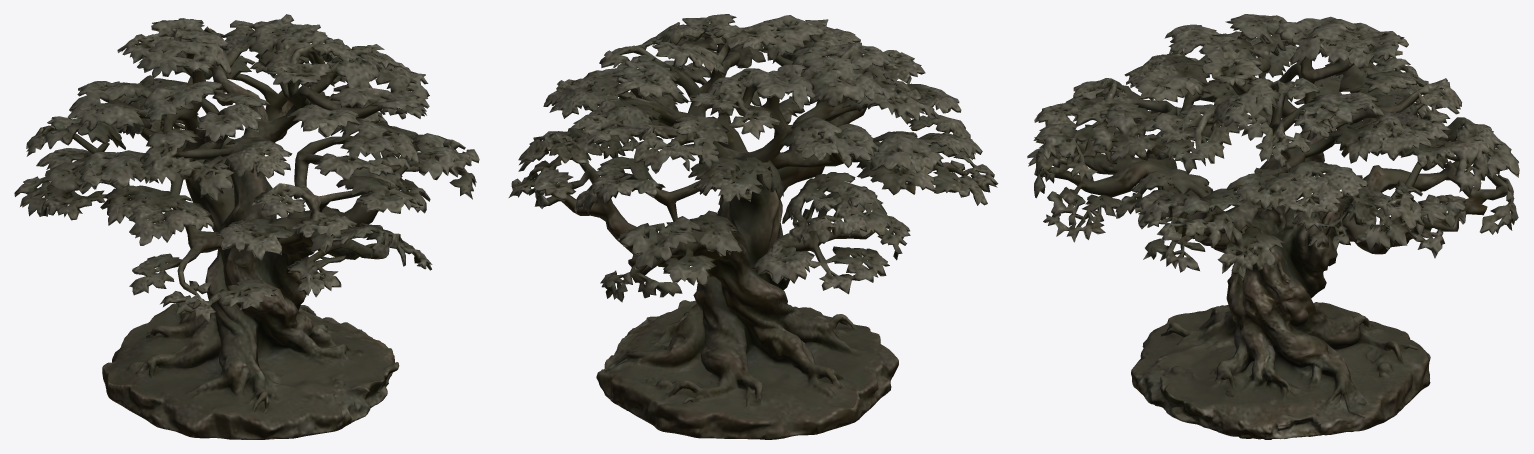
File: bonsaiV02.glb
3 renders of one model, left to right at view 1: azimuth 30°, elevation 25°; view 2: azimuth 150°, elevation 25°; view 3: azimuth 270°, elevation 25°, orthographic.
Parts seen in each view (by area): view 1: tripo_node_99b68e3d-856b-42b8-8802-d043595f0f00; view 2: tripo_node_99b68e3d-856b-42b8-8802-d043595f0f00; view 3: tripo_node_99b68e3d-856b-42b8-8802-d043595f0f00.
Boxes of the visible parts, x1,y1,x2,y2 form: tripo_node_99b68e3d-856b-42b8-8802-d043595f0f00: [14, 14, 479, 439]; tripo_node_99b68e3d-856b-42b8-8802-d043595f0f00: [508, 14, 998, 439]; tripo_node_99b68e3d-856b-42b8-8802-d043595f0f00: [1027, 14, 1519, 439].
Bounding box in the file's own units: 0.8417 × 0.7302 × 0.9776.
Materials: 1 (1 with a texture image).
